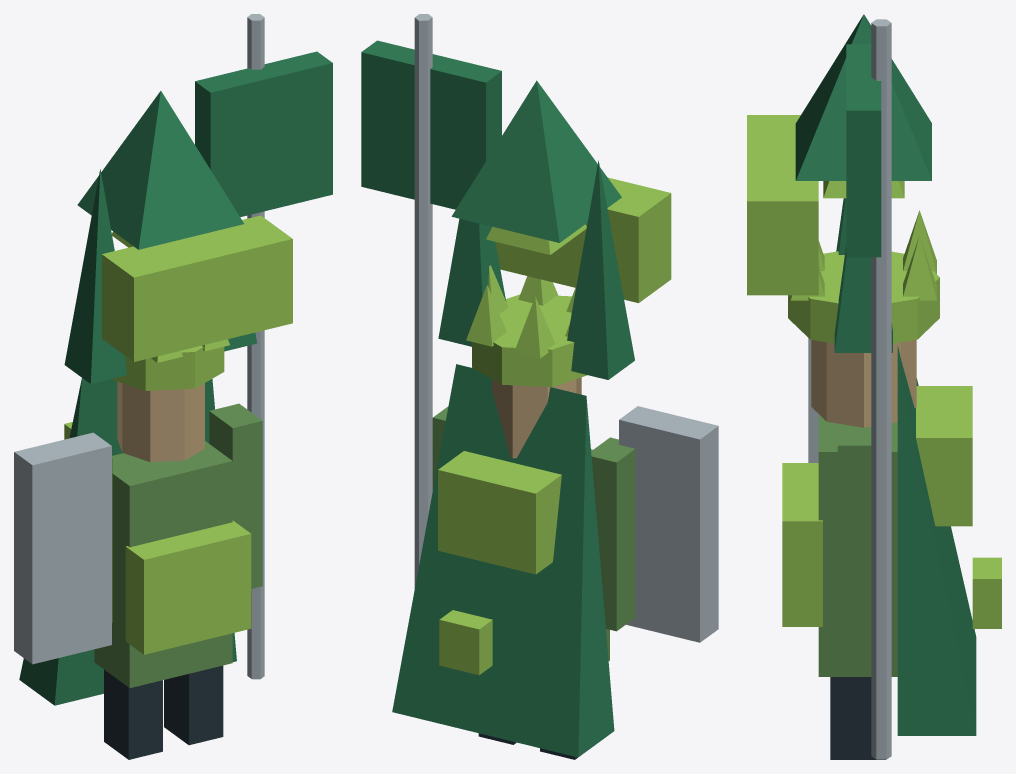
Rendered from hero.obj.
3 views of the same model, side by side, from view 1: azimuth 30°, elevation 25°; view 2: azimuth 150°, elevation 25°; view 3: azimuth 270°, elevation 25° (orthographic). The views are drawn at different scales.
Parts seen in each view (by area): view 1: hero; view 2: hero; view 3: hero.
Boxes of the visible parts, x1=… form: hero: x1=14, y1=14, x2=332, y2=759; hero: x1=361, y1=14, x2=718, y2=759; hero: x1=747, y1=14, x2=1001, y2=759.
Bounding box in the file's own units: 1.26 × 2.61 × 0.785.
